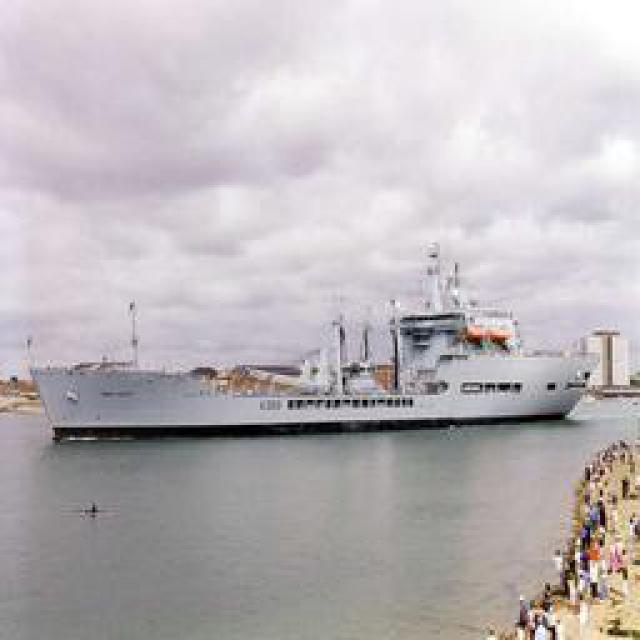Ship: (33, 326, 591, 439)
